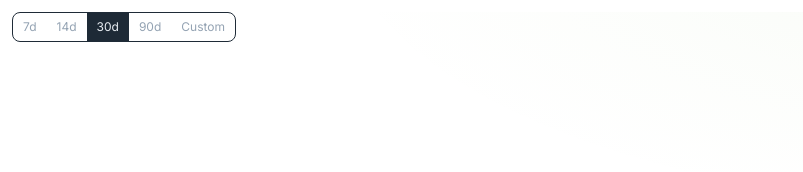
it: DateRangeControl › rejects an inverted custom range
The width and height of the screenshot is (803, 172).
Click the button "Custom". click: (203, 27)
box: [171,13,235,41]
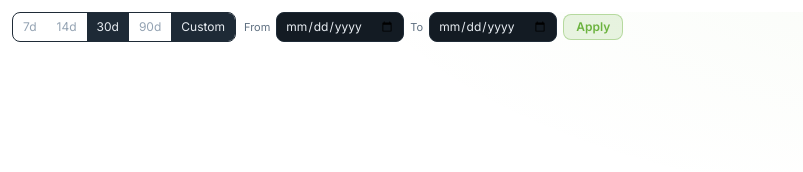
Type "2026-10-20" into the date field labelled "From". click: (340, 27)
box: [276,12,404,42]
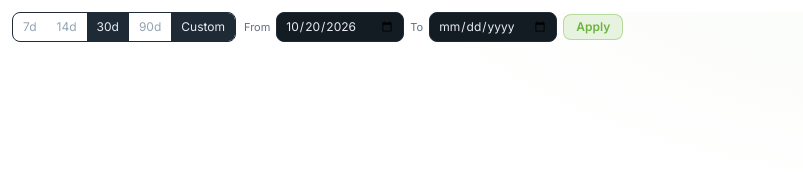
Type "2026-10-10" into the date field labelled "To". click: (493, 27)
box: [429,12,557,42]
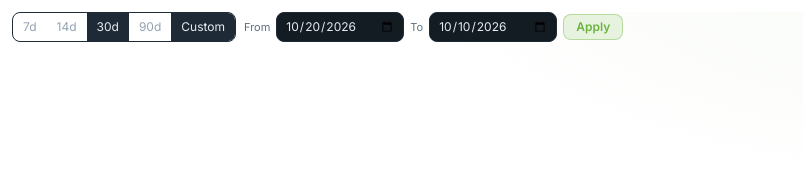
Click the button "Apply". click: (593, 27)
box: [563,14,623,40]
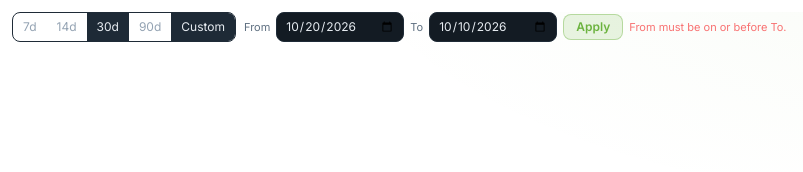
expect the message shows "From must be on or before To": met, box [629,20,786,34]
